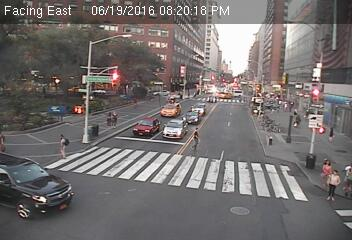neg: (163, 166, 182, 191), (300, 34, 317, 56), (40, 180, 56, 202), (224, 119, 239, 139), (66, 59, 81, 79), (105, 61, 120, 80), (181, 13, 194, 32), (232, 161, 245, 178), (193, 97, 205, 113), (130, 60, 142, 76), (131, 199, 143, 215), (38, 82, 49, 97), (26, 112, 37, 126), (259, 132, 270, 146), (198, 29, 207, 42), (278, 40, 287, 52), (95, 156, 103, 167), (242, 13, 250, 24), (167, 90, 175, 100), (254, 90, 259, 96)
pos: (324, 168, 348, 200), (51, 129, 73, 158), (186, 124, 205, 150), (317, 159, 333, 181), (100, 107, 113, 125), (109, 110, 122, 127), (326, 124, 338, 141), (291, 112, 302, 127), (292, 107, 298, 116)
